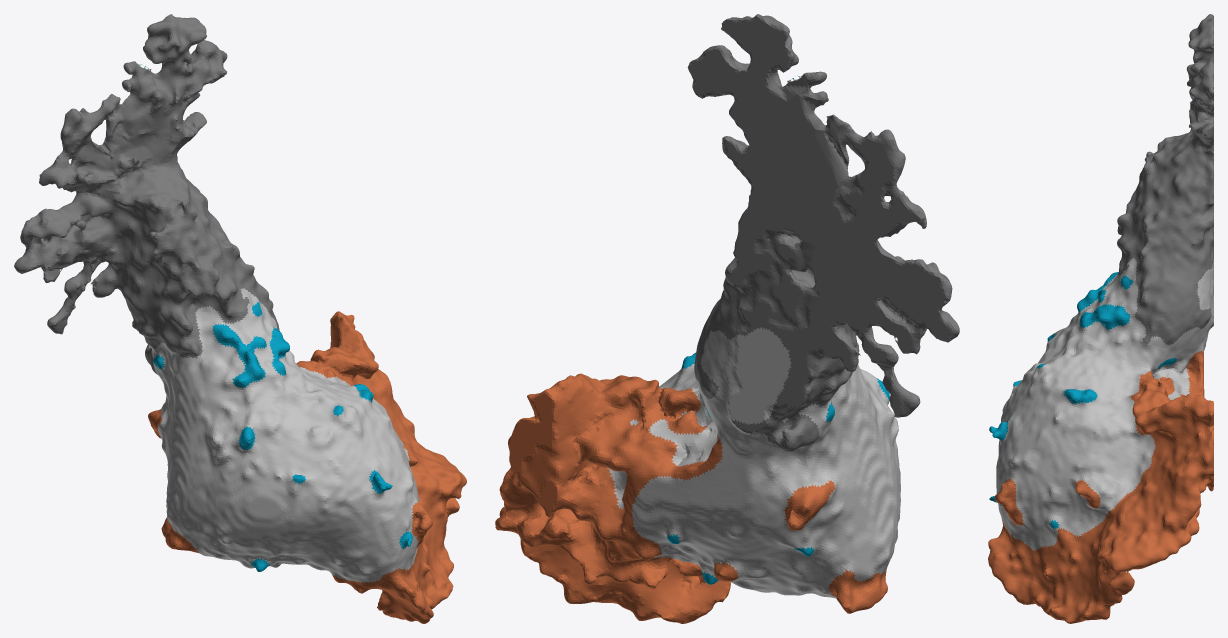
The picture shows the model from 3 angles, left to right: view 1: azimuth 30°, elevation 25°; view 2: azimuth 150°, elevation 25°; view 3: azimuth 270°, elevation 25°; orthographic projection. The views are drawn at different scales.
Bounding box in the file's own units: 165 × 226 × 88.15.
